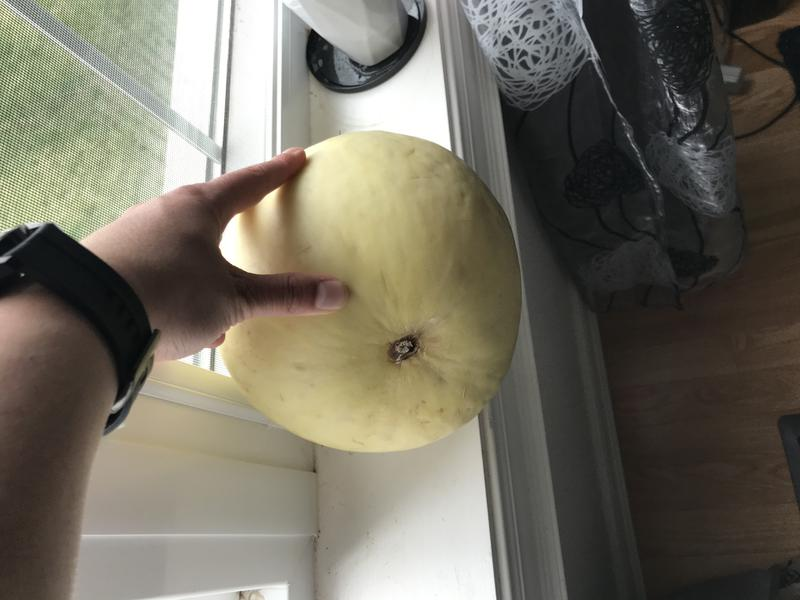honeydew: (203, 128, 529, 466)
